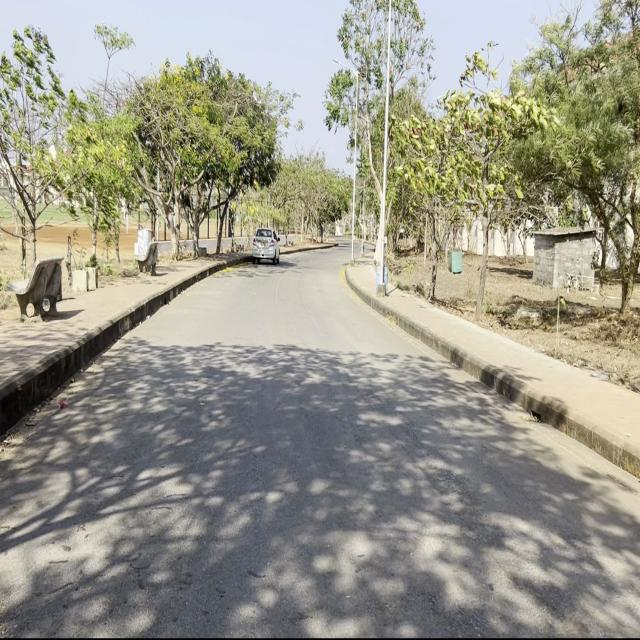Object: (252, 223, 283, 271)
Road: (3, 252, 631, 631)
